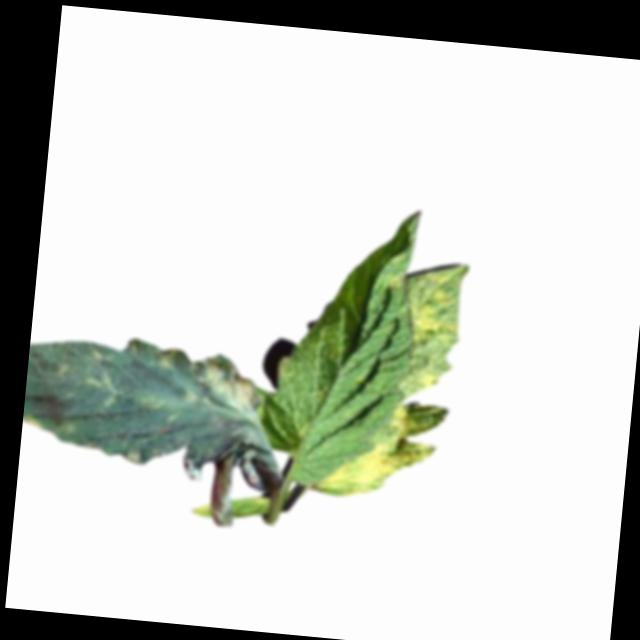Leaf_Mold: (315, 392, 449, 504), (397, 258, 468, 405), (188, 350, 267, 420), (151, 343, 180, 372)
